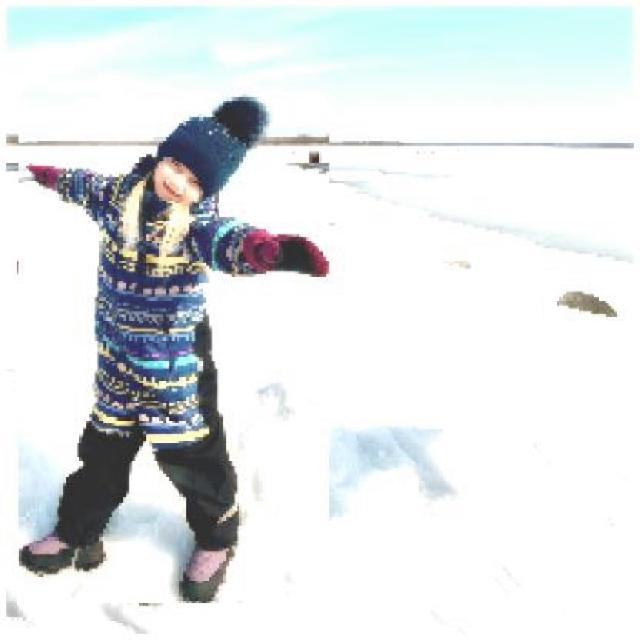child: (17, 92, 329, 605)
